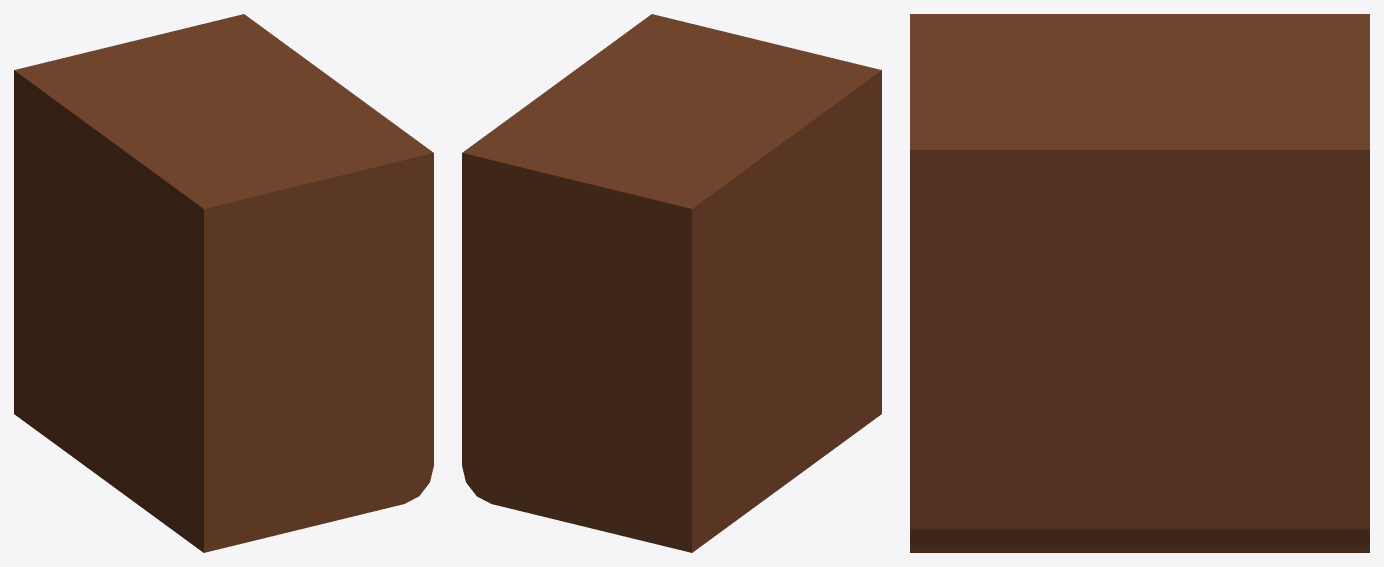
The model's file is tank_edge.fbx.
The picture shows the model from 3 angles, left to right: view 1: azimuth 30°, elevation 25°; view 2: azimuth 150°, elevation 25°; view 3: azimuth 270°, elevation 25°; orthographic projection. The views are drawn at different scales.
Parts seen in each view (by area): view 1: tank_edge; view 2: tank_edge; view 3: tank_edge.
Boxes of the visible parts, x1,y1,x2,y2 form: tank_edge: (14, 14, 433, 552); tank_edge: (462, 14, 881, 552); tank_edge: (910, 14, 1369, 552).
Size of the model in its own units: 70 by 100 by 100.
